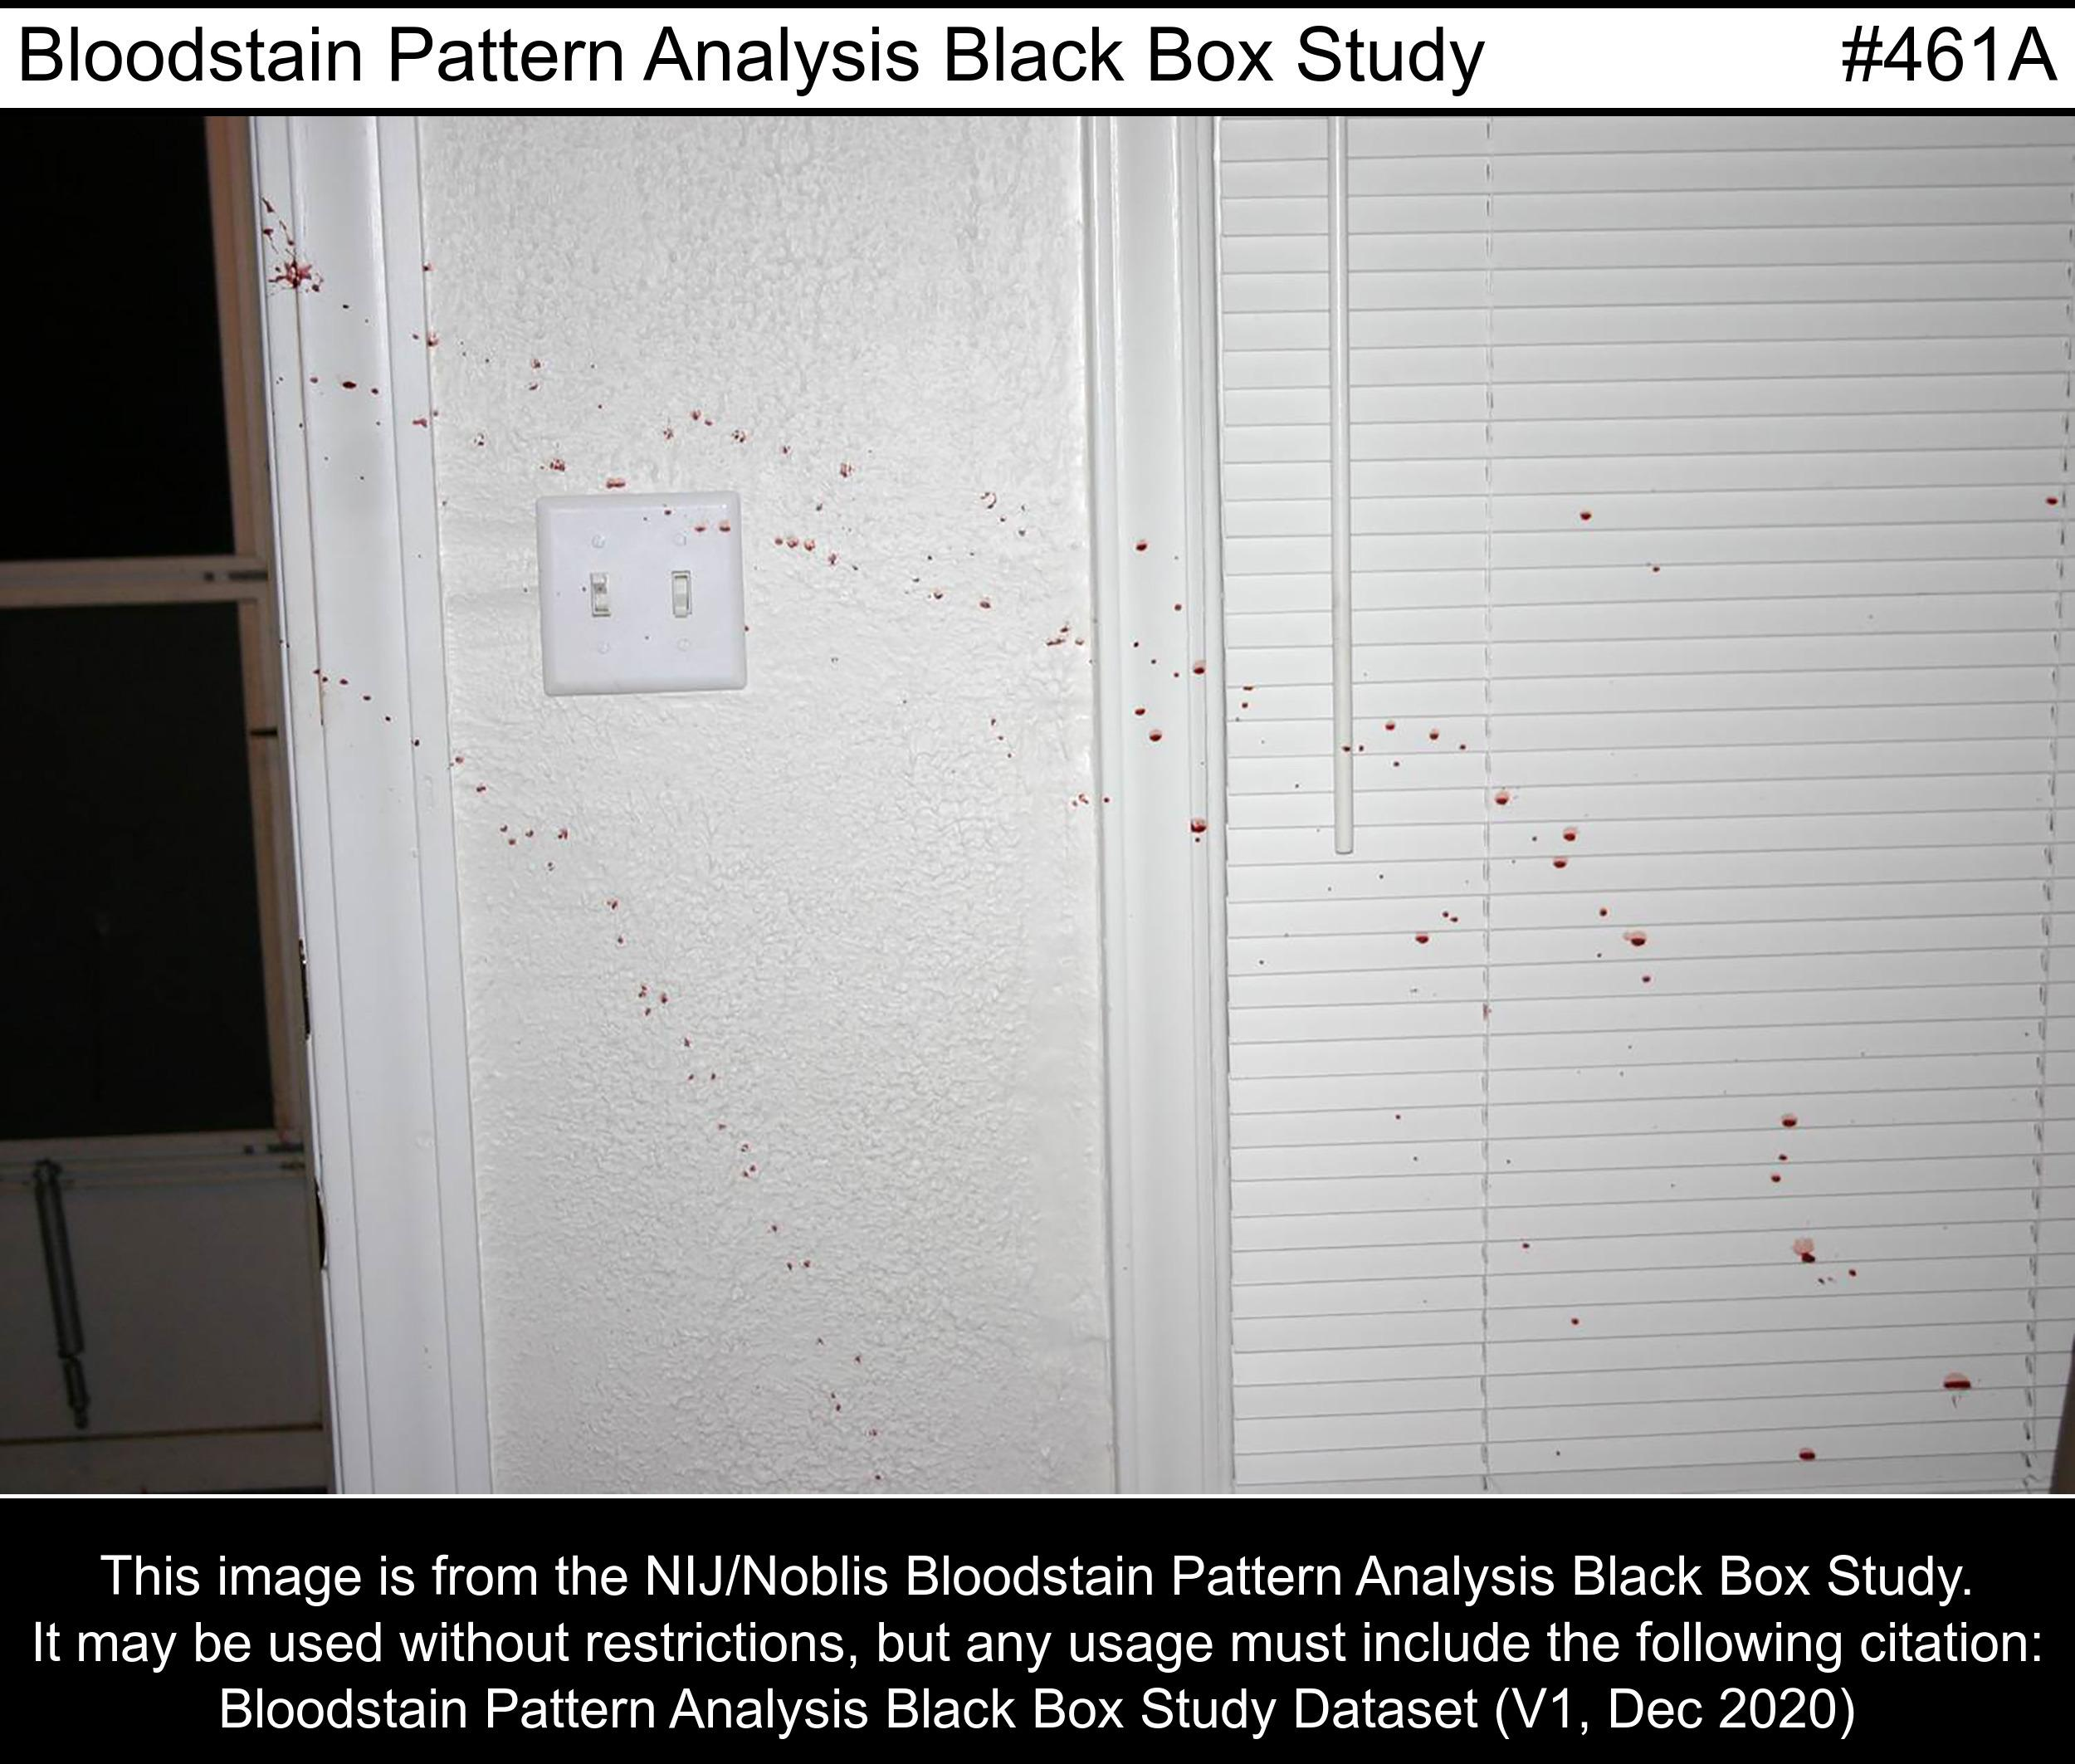Impact: (287, 224, 1156, 595), (1200, 651, 1694, 1041), (1760, 1080, 1998, 1498), (756, 1207, 912, 1479), (665, 971, 768, 1146), (320, 693, 472, 805), (520, 826, 637, 919)
